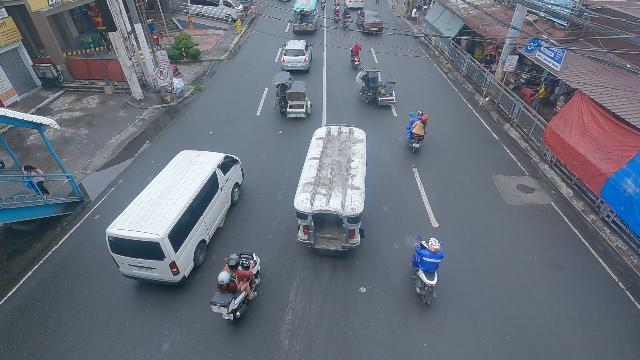car: (279, 38, 314, 73)
jeepney: (292, 122, 369, 259), (292, 0, 319, 36)
motorcycle: (210, 251, 262, 321), (409, 235, 445, 307), (407, 117, 428, 152), (348, 40, 363, 69), (341, 11, 351, 29), (332, 4, 341, 22), (333, 0, 340, 8), (321, 0, 326, 10)
van: (104, 147, 246, 285)
